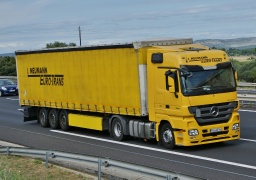truck: (14, 36, 243, 148)
